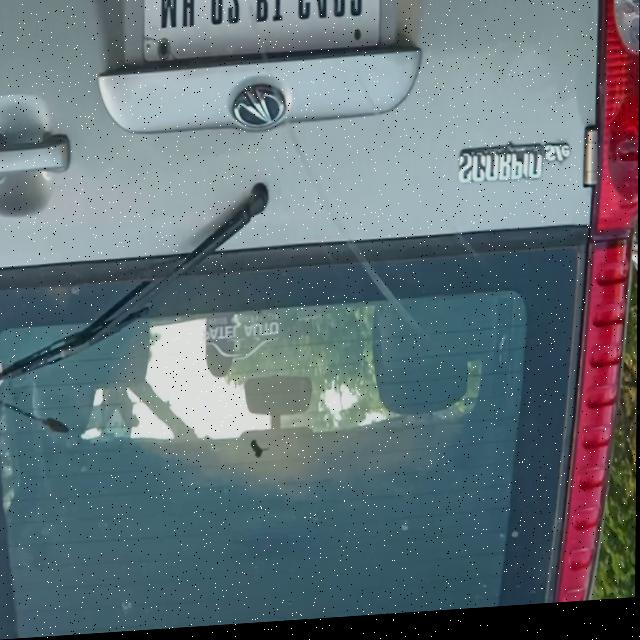plate: (142, 0, 380, 71)
